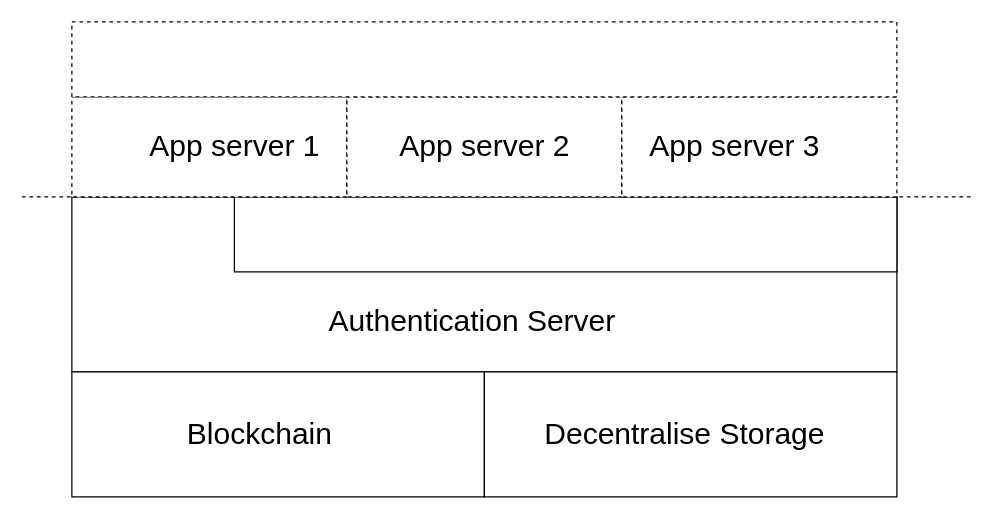
This 995x519 diagram has some shape labels left out. The centre of each missing label's shape, as x and y in pixels:
Authenticator Application: pixel 484 59
License Manager: pixel 565 234
